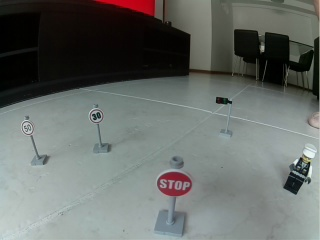Green Traffic Light: (215, 96, 233, 139)
Person: (283, 142, 317, 195)
Speed Limit 30: (89, 109, 103, 123)
Speed Limit 50: (21, 121, 35, 136)
Stop Sign: (156, 170, 193, 197)
